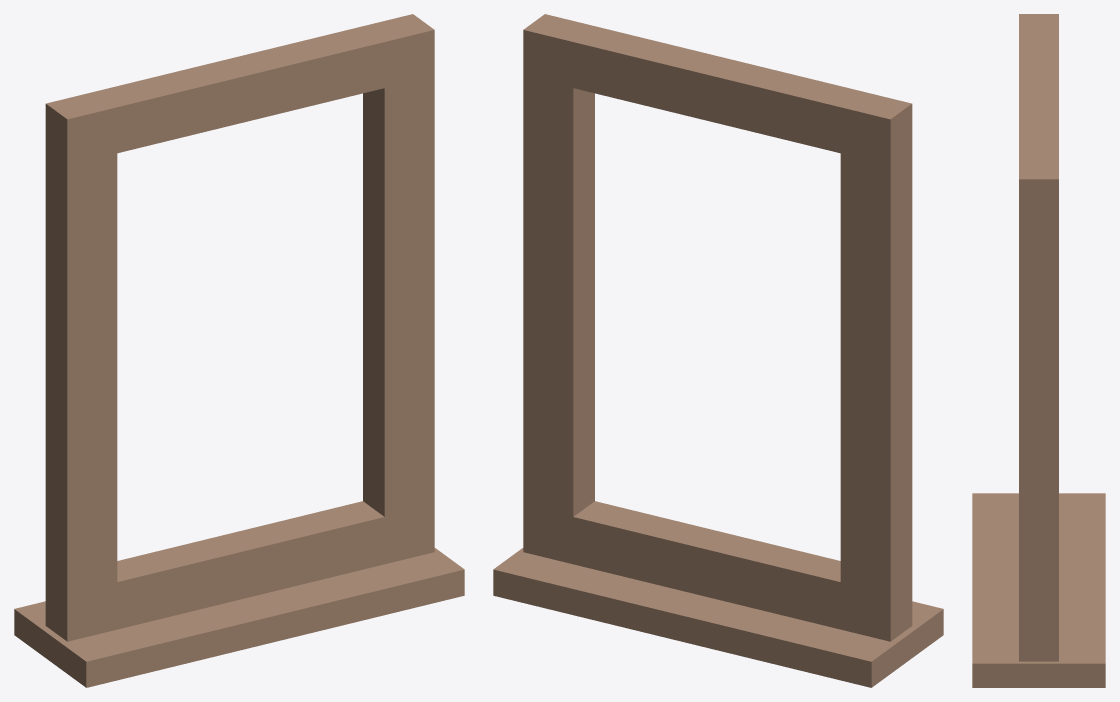
Rendered from Window_3D.fbx.
The picture shows the model from 3 angles, left to right: view 1: azimuth 30°, elevation 25°; view 2: azimuth 150°, elevation 25°; view 3: azimuth 270°, elevation 25°; orthographic projection. The views are drawn at different scales.
Parts seen in each view (by area): view 1: polySurface1625; view 2: polySurface1625; view 3: polySurface1625.
Part boxes in pixels (x1,y1,x2,y2): polySurface1625: (14, 14, 464, 687); polySurface1625: (493, 14, 943, 687); polySurface1625: (972, 14, 1105, 687).
Bounding box in the file's own units: 1.51 × 2.09 × 0.5.
1 material, 1 textured.
